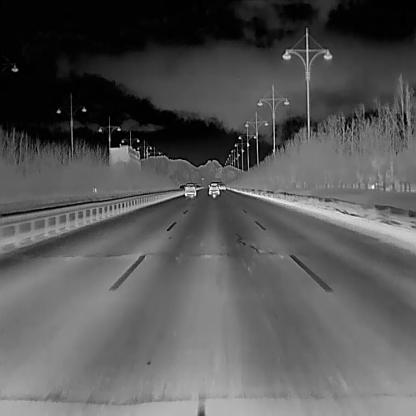car: (207, 181, 220, 197), (184, 182, 196, 197), (218, 182, 226, 190), (178, 184, 185, 189)
